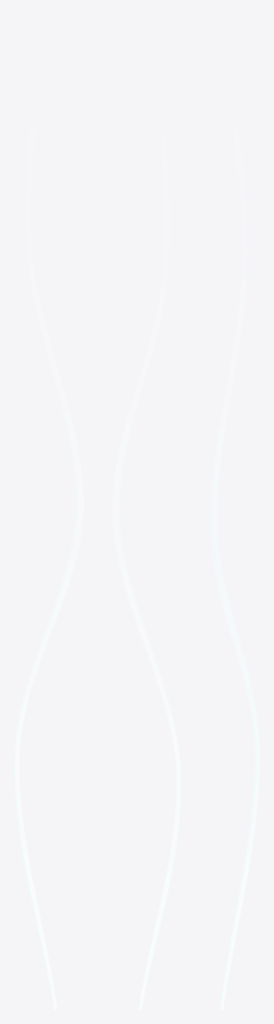
Rendered from strand_e_supply.glb.
3 views of the same model, side by side, from view 1: azimuth 30°, elevation 25°; view 2: azimuth 210°, elevation 25°; view 3: azimuth 270°, elevation 25° (orthographic).
Bounding box in the file's own units: 0.3492 × 7 × 0.3202.
